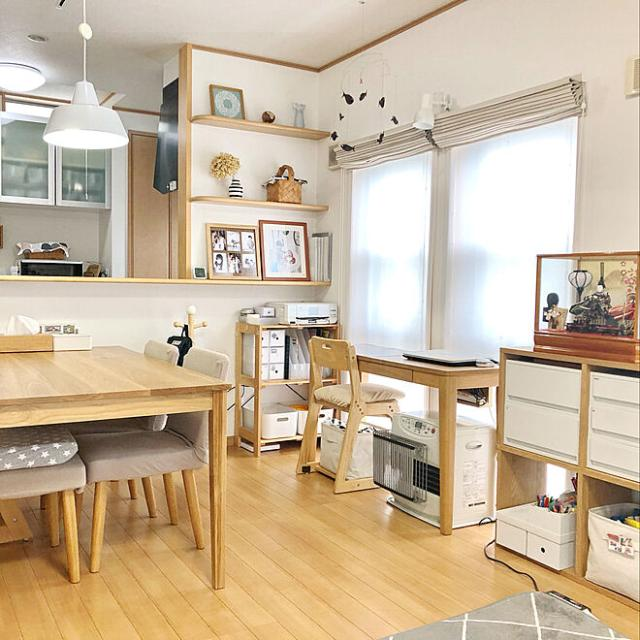natural chair: (72, 347, 228, 568), (296, 337, 382, 498)
natural desk: (2, 328, 230, 594)
